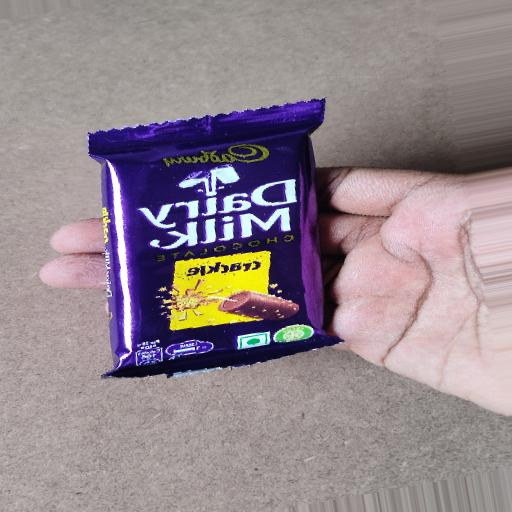Cadbury Dairy Milk Crackle: (45, 96, 360, 393)
